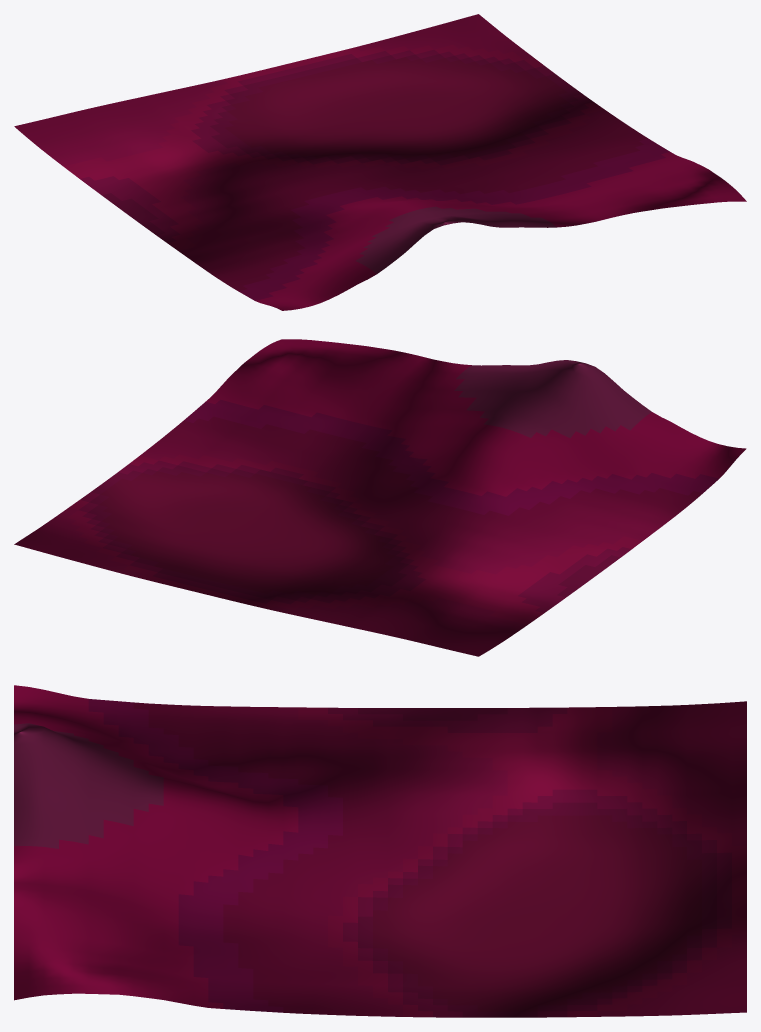
Rendered from terrian2.glb.
3 renders of one model, top to bottom at view 1: azimuth 30°, elevation 25°; view 2: azimuth 150°, elevation 25°; view 3: azimuth 270°, elevation 25°, orthographic. The views are drawn at different scales.
Visible parts, largest first — view 1: Mesh; view 2: Mesh; view 3: Mesh.
Boxes of the visible parts, bbox=[...] form: Mesh: bbox=[14, 14, 746, 310]; Mesh: bbox=[14, 339, 746, 656]; Mesh: bbox=[14, 685, 746, 1017].
Bounding box in the file's own units: 490 × 64.39 × 490.
Materials: 1 (1 with a texture image).
